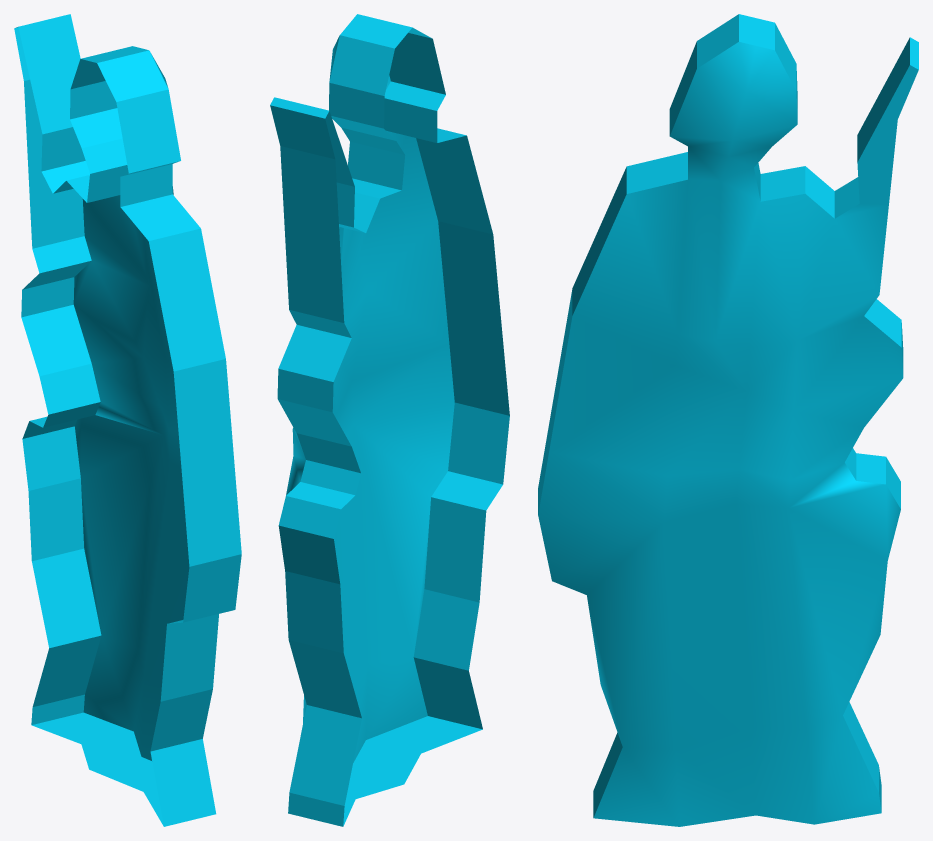
The picture shows the model from 3 angles, left to right: view 1: azimuth 30°, elevation 25°; view 2: azimuth 150°, elevation 25°; view 3: azimuth 270°, elevation 25°; orthographic projection. The views are drawn at different scales.
Parts seen in each view (by area): view 1: Plane025; view 2: Plane025; view 3: Plane025.
Part boxes in pixels (x1,y1,x2,y2): Plane025: (14,14,241,826); Plane025: (270,14,509,826); Plane025: (538,14,918,826).
Size of the model in its own units: 55.49 by 421 by 187.
